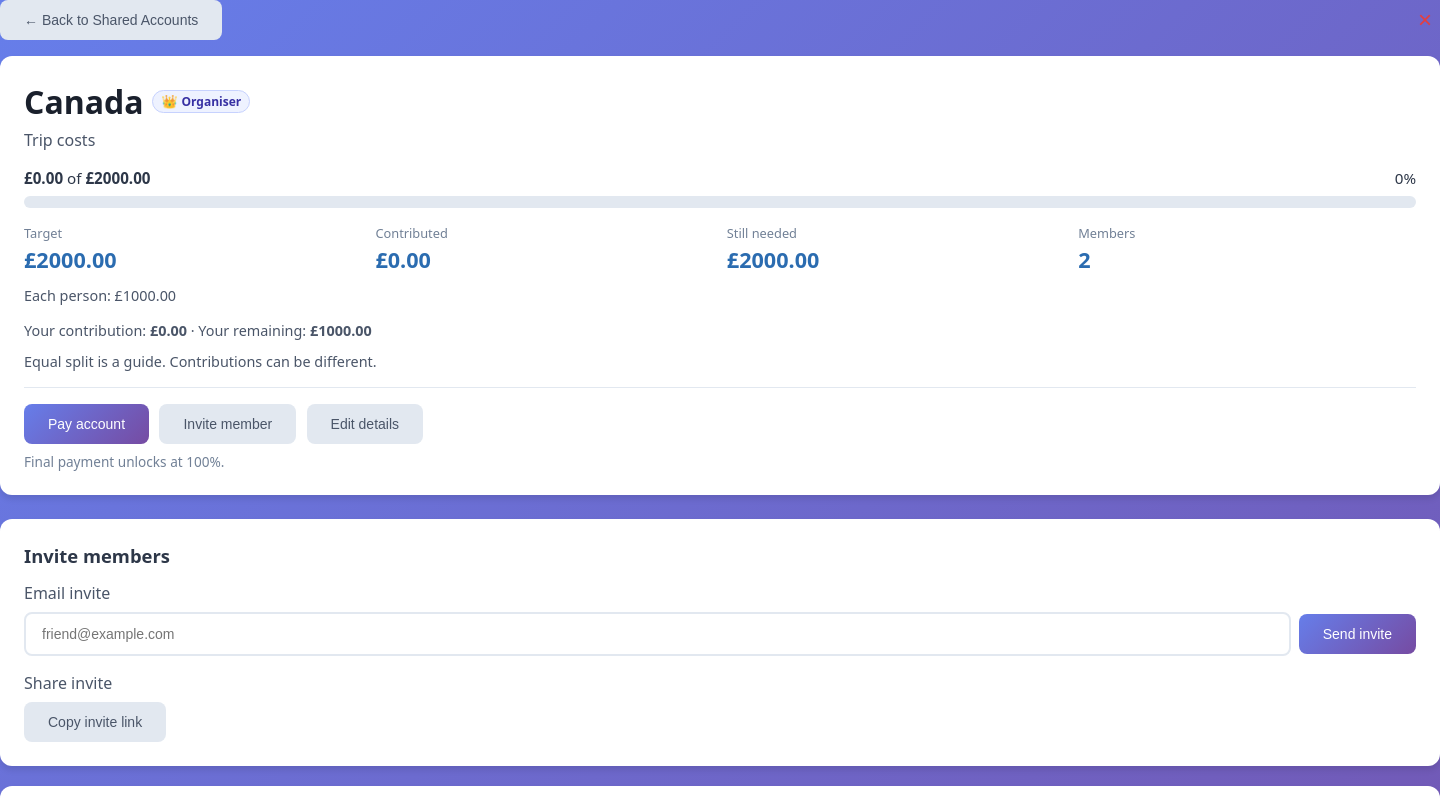
it: SharedAccountDetail Pay account › does not submit when the over-share warning is cancelled
Click the button "Pay account". click: {"x": 87, "y": 424}
box: [24,404,149,444]
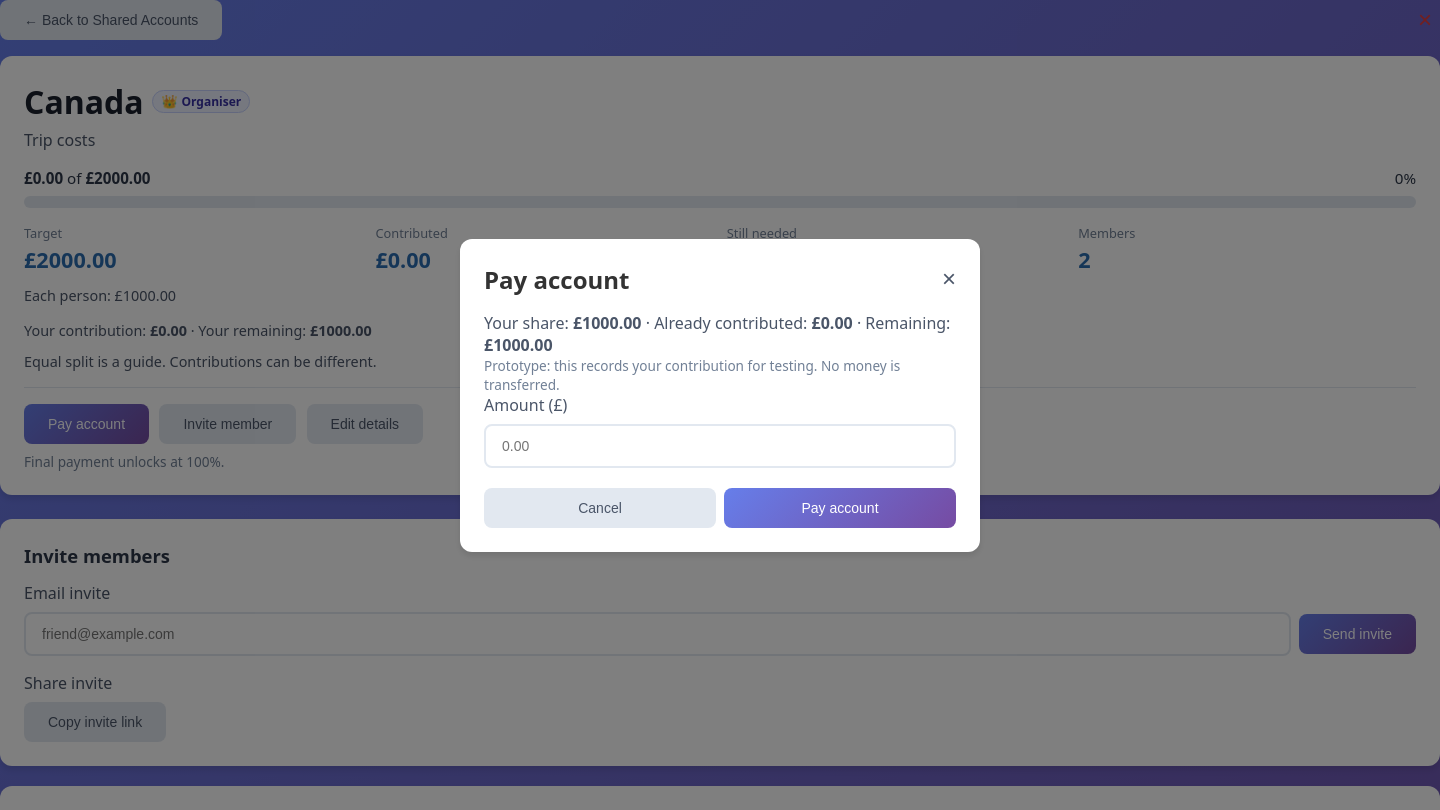
Type "1100" into the number field labelled "Amount (£)". click: {"x": 720, "y": 446}
box: [484,424,956,468]
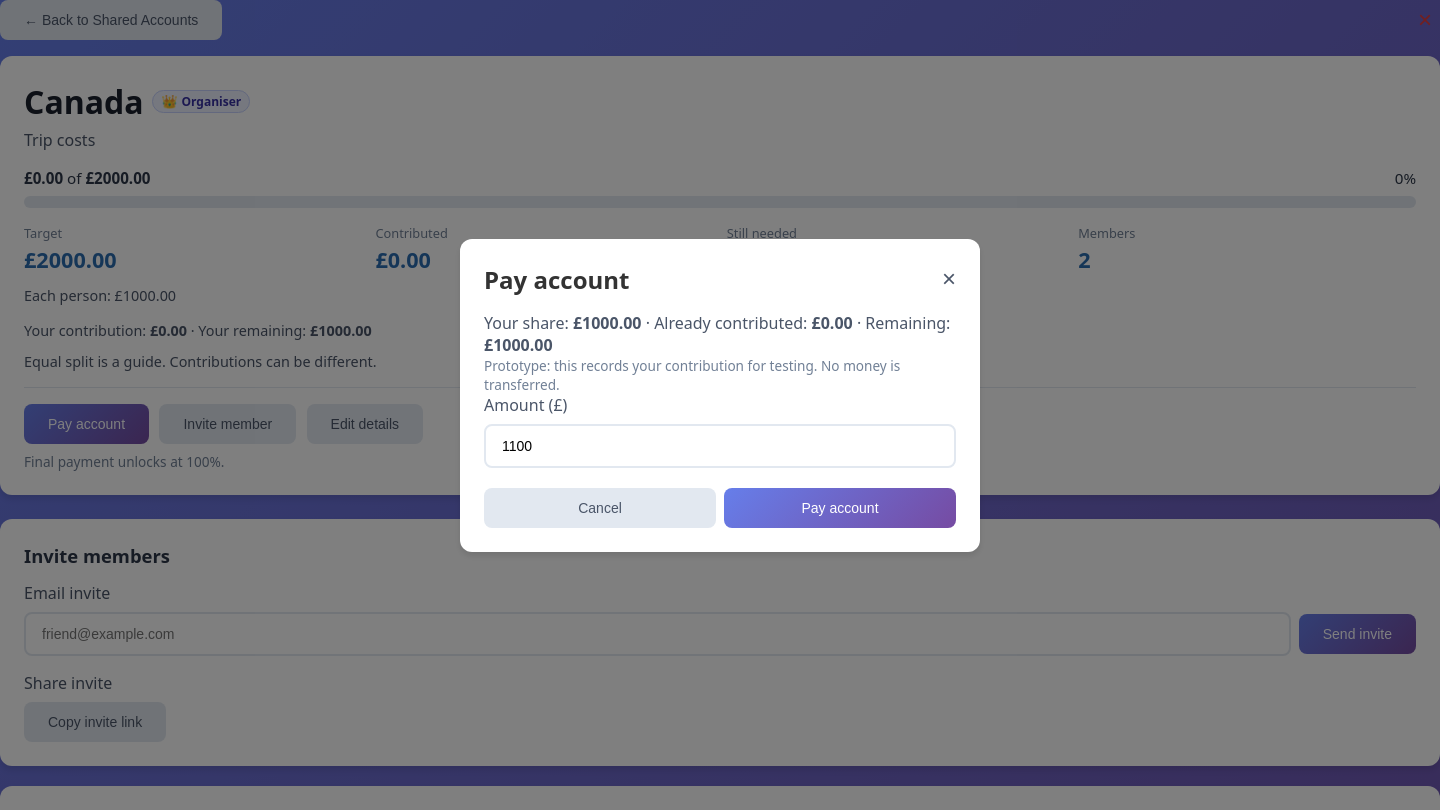
Submit the form labelled "Amount (£) Cancel Pay account", box [484,394,956,528]
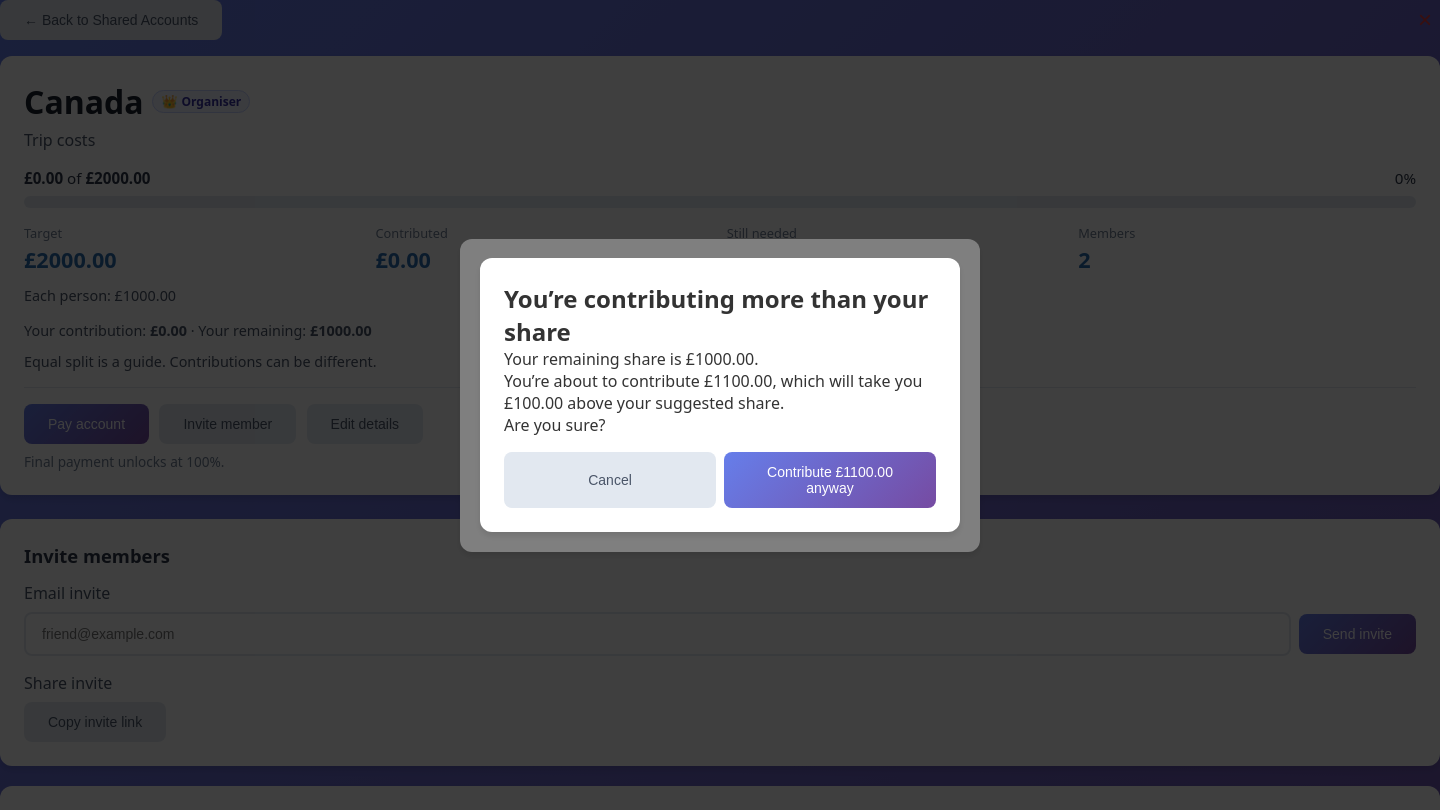
Click the button "Cancel". click: {"x": 610, "y": 480}
box: [504,452,716,508]
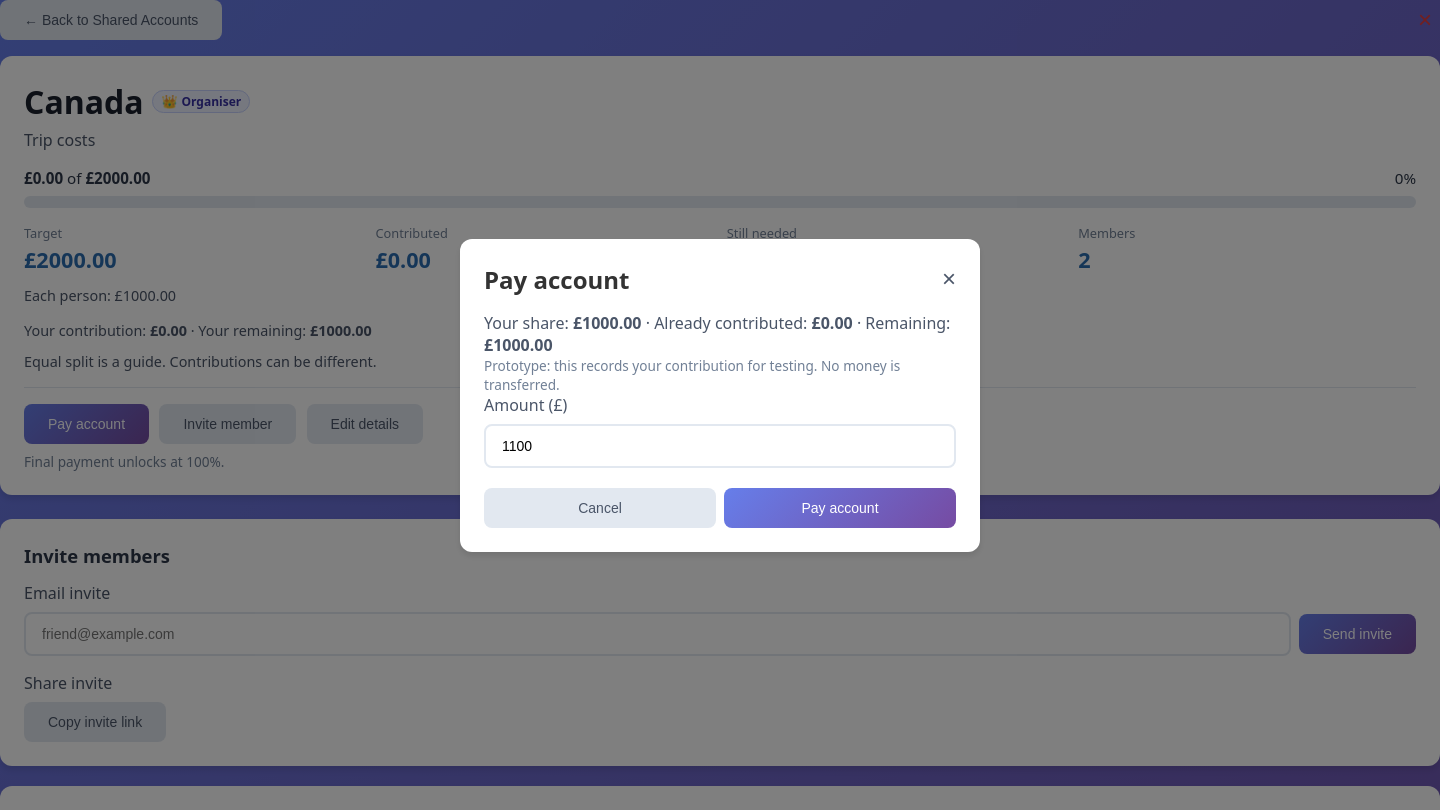
Result: the heading "Pay account" is shown at [484,262,630,296]
Result: the heading "contributing more than your share" is gone
